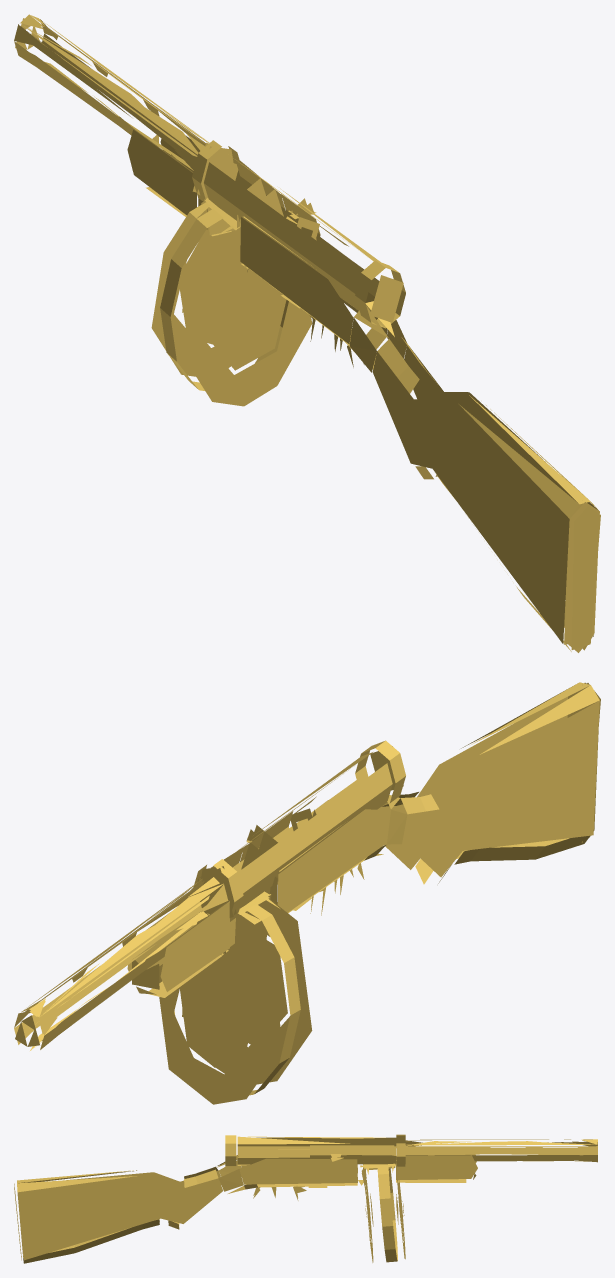
File: charm_mst_subfusil_13.glb
3 renders of one model, top to bottom at view 1: azimuth 30°, elevation 25°; view 2: azimuth 150°, elevation 25°; view 3: azimuth 270°, elevation 25°, orthographic. The views are drawn at different scales.
Visible parts, largest first — view 1: p0_paint; view 2: p0_paint; view 3: p0_paint.
Boxes of the visible parts, <box> form: p0_paint: <box>14,14,600,652</box>; p0_paint: <box>14,682,600,1104</box>; p0_paint: <box>14,1134,597,1263</box>.
Bounding box in the file's own units: 0.1055 × 0.1902 × 0.7881.
